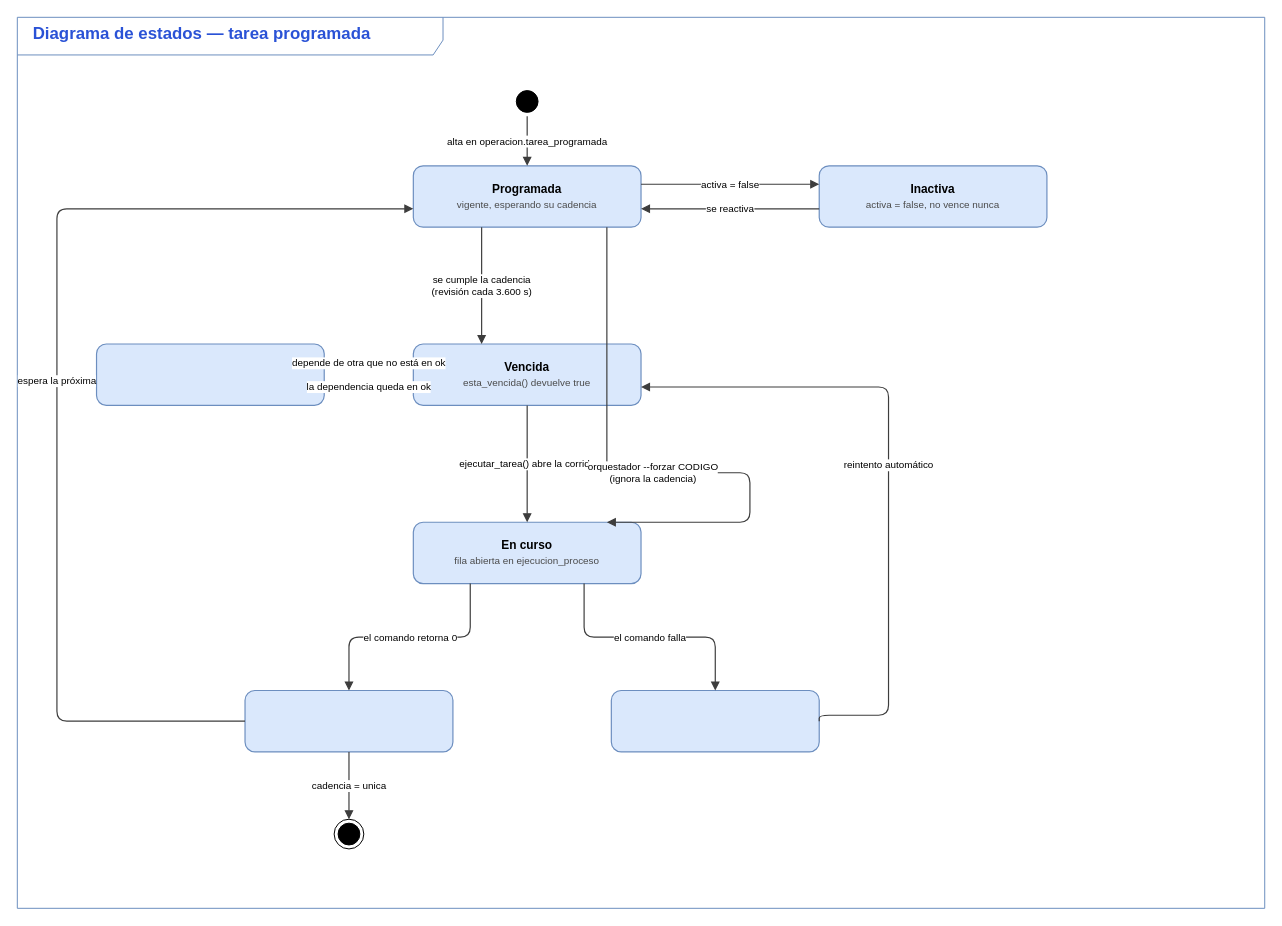
This 1282x926 diagram has some shape labels left out. Here are the shapes that lost their labels. From the top down, the centre of each, then its label:
At [209,374]: "Bloqueada su dependencia no terminó en ok".
At [348,720]: "Ok ultimo_estado = ok".
At [714,720]: "Error ultimo_estado = error".
